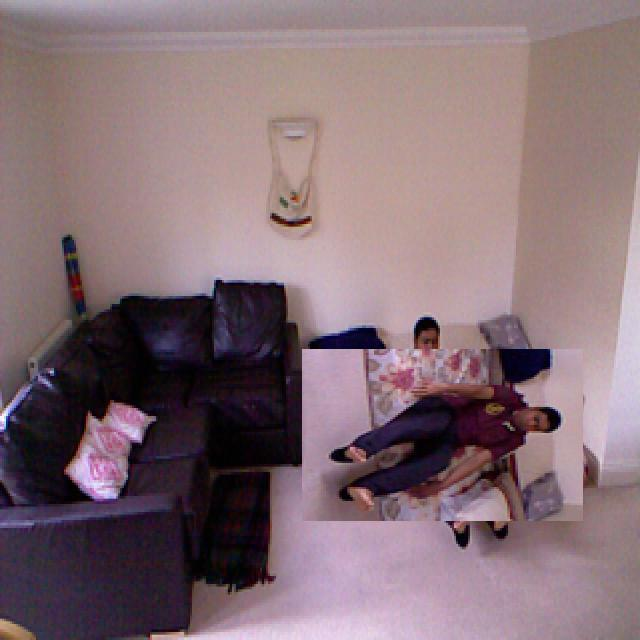NotFall: (325, 354, 578, 518)
